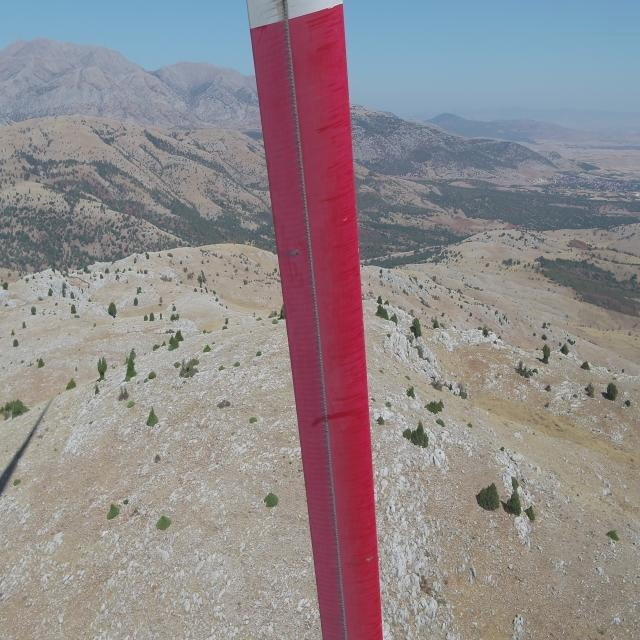Coating_defects: (286, 244, 305, 262)
